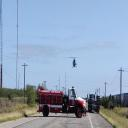helicopter: (65, 57, 84, 70)
